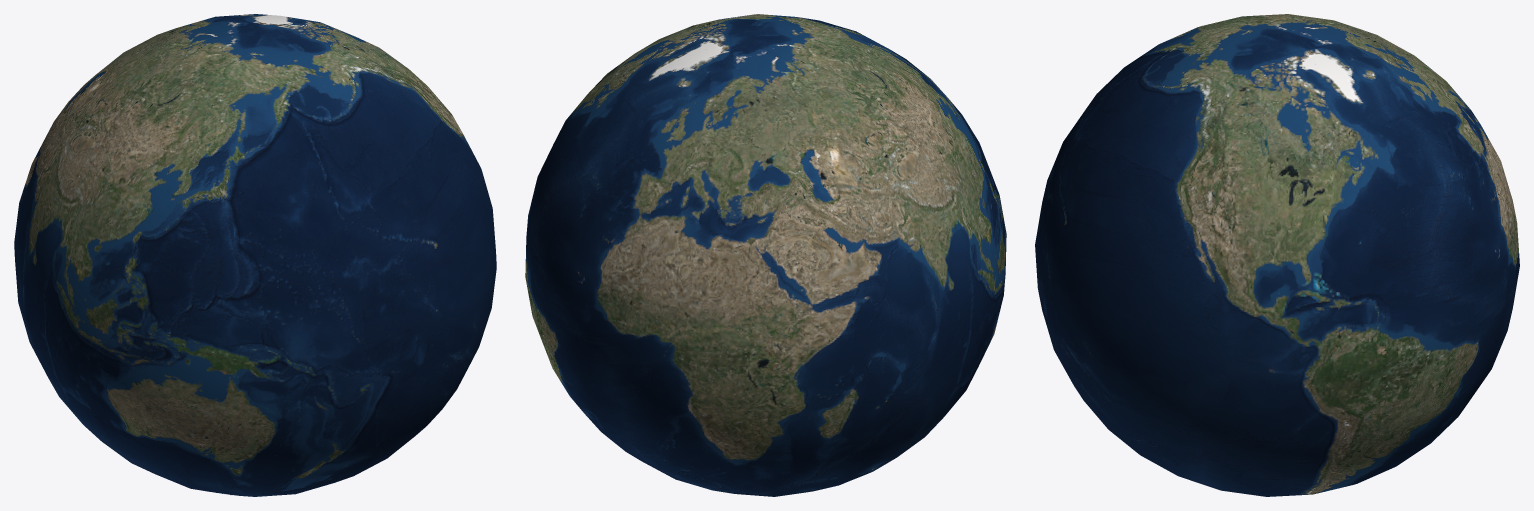
The model's file is tierra.obj.
The picture shows the model from 3 angles, left to right: view 1: azimuth 30°, elevation 25°; view 2: azimuth 150°, elevation 25°; view 3: azimuth 270°, elevation 25°; orthographic projection.
Parts seen in each view (by area): view 1: Clouds_Cube.000; view 2: Clouds_Cube.000; view 3: Clouds_Cube.000.
Boxes of the visible parts, <box> form: Clouds_Cube.000: <box>14,14,496,496</box>; Clouds_Cube.000: <box>525,14,1006,496</box>; Clouds_Cube.000: <box>1035,14,1519,496</box>.
Size of the model in its own units: 6.38 by 6.37 by 6.38.
